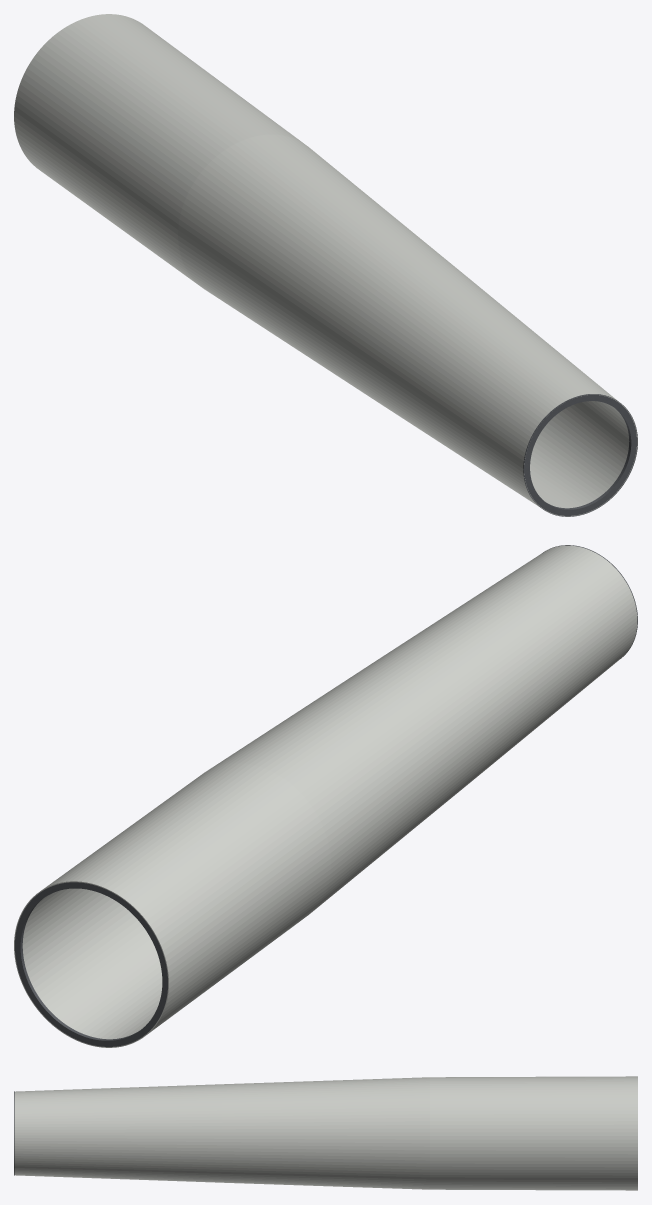
The model's file is tower_section_3.glb.
The picture shows the model from 3 angles, top to bottom: view 1: azimuth 30°, elevation 25°; view 2: azimuth 150°, elevation 25°; view 3: azimuth 270°, elevation 25°; orthographic projection. The views are drawn at different scales.
Parts seen in each view (by area): view 1: tower_section_3; view 2: tower_section_3; view 3: tower_section_3.
Part boxes in pixels (x1,y1,x2,y2): tower_section_3: (14, 14, 637, 516); tower_section_3: (14, 545, 637, 1047); tower_section_3: (14, 1076, 637, 1190).
Size of the model in its own units: 5.93 by 5.93 by 32.42.
Materials: 2 (2 with a texture image).
